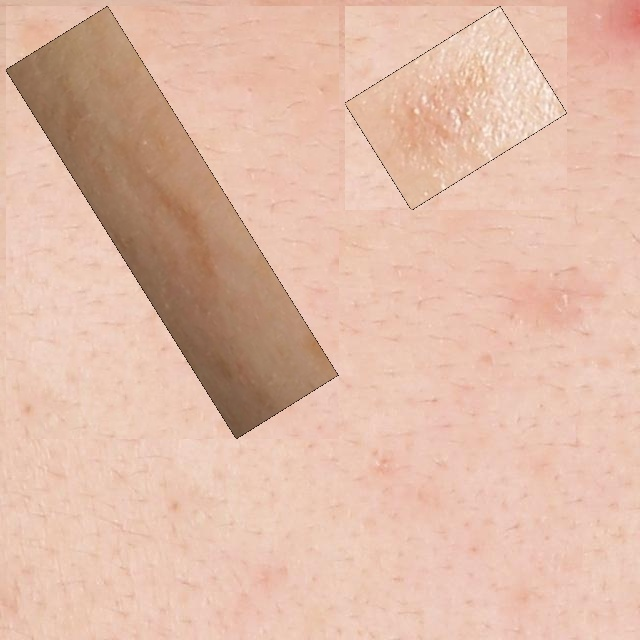melasma: (17, 17, 327, 427), (356, 17, 556, 199)
